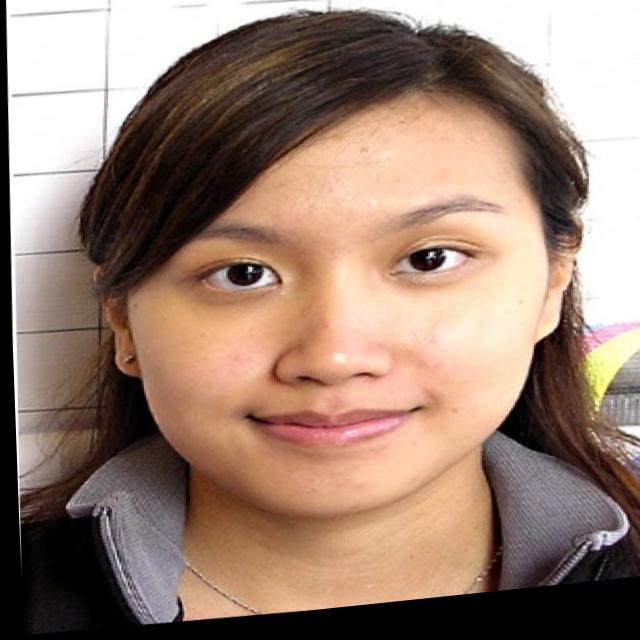Nonhelmet: (78, 3, 580, 519)
